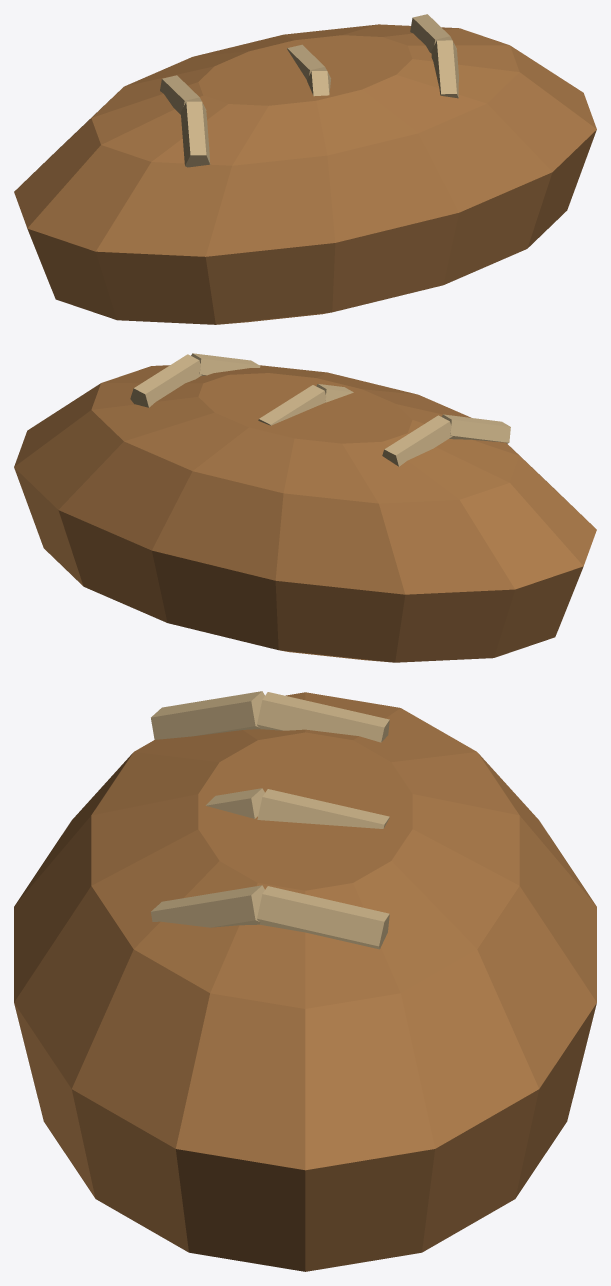
Rendered from bread.glb.
The picture shows the model from 3 angles, top to bottom: view 1: azimuth 30°, elevation 25°; view 2: azimuth 150°, elevation 25°; view 3: azimuth 270°, elevation 25°; orthographic projection. The views are drawn at different scales.
Visible parts, largest first — view 1: geometry; view 2: geometry; view 3: geometry.
Boxes of the visible parts, bbox=[...] form: geometry: bbox=[14, 14, 596, 324]; geometry: bbox=[14, 353, 596, 662]; geometry: bbox=[14, 691, 596, 1271].
Bounding box in the file's own units: 0.7105 × 0.2549 × 0.4061.
